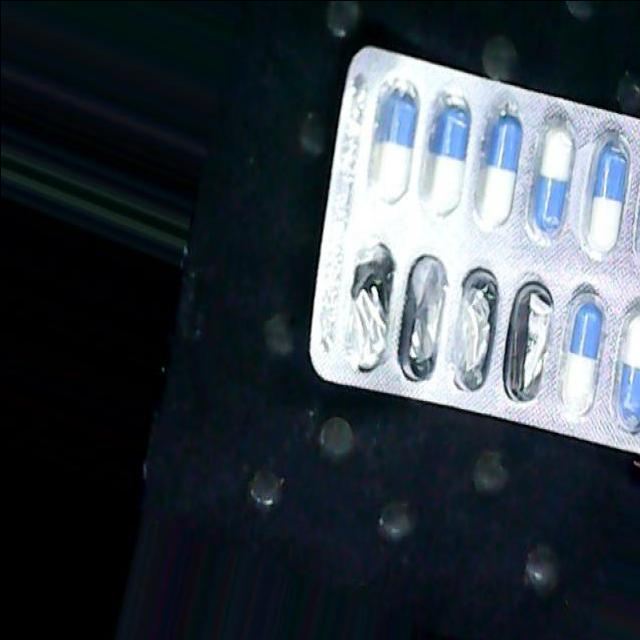-Hazardous waste - medicine inner packaging-: (307, 39, 640, 457)
